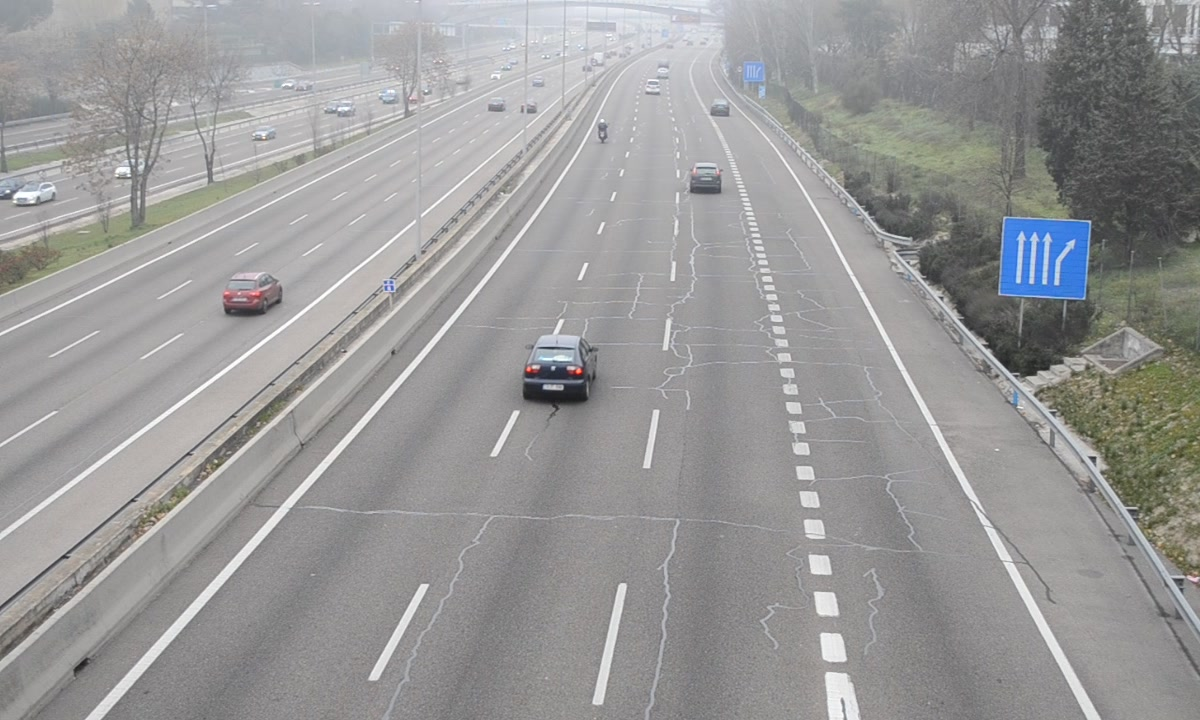car: (521, 333, 597, 405), (687, 159, 723, 194), (710, 100, 729, 117)
motorcycle: (596, 118, 607, 147)
